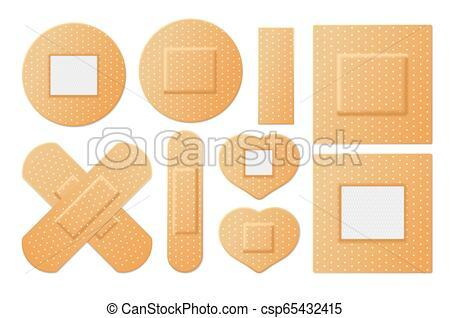bandage: (23, 142, 153, 273), (313, 153, 432, 273), (312, 26, 433, 144), (21, 22, 127, 127), (139, 19, 241, 121), (220, 207, 300, 273), (220, 135, 300, 200), (168, 131, 202, 272), (258, 27, 295, 124)
